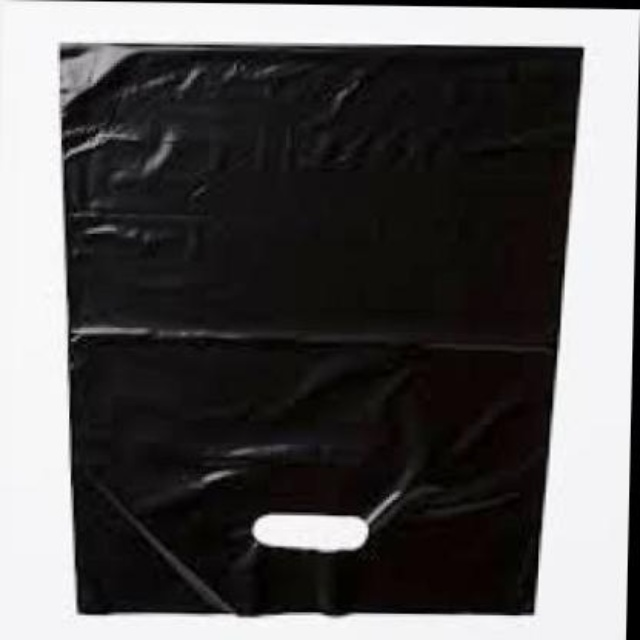trash: (62, 46, 578, 612)
